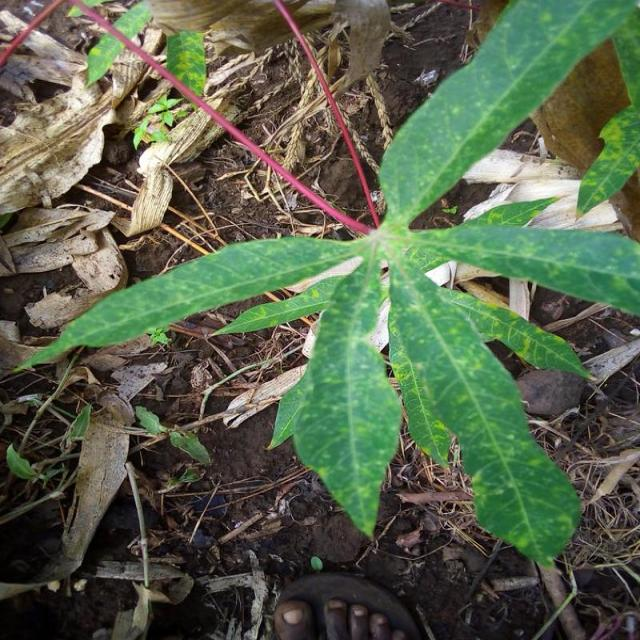cassava leaf: (14, 0, 640, 567), (388, 259, 583, 568)
